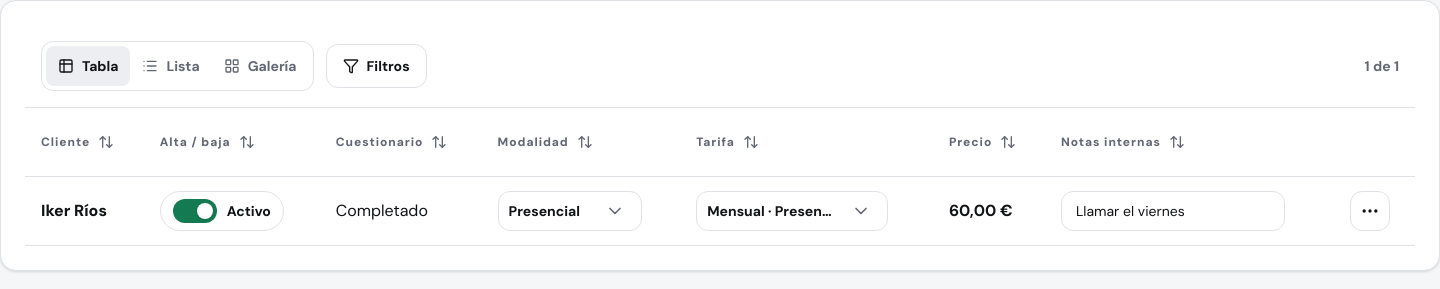
Test: ClientsTable › ofrece selectores internos por fila, notas automáticas y un menú de tres puntos
Expected: the dropdown named "Modalidad de Iker Ríos" is shown, x1=498 y1=191 x2=642 y2=231
Expected: the dropdown named "Tarifa de Iker Ríos" is shown, x1=696 y1=191 x2=888 y2=231
What coordinates should you click on to do the following:
click the button named "Más opciones para Iker Ríos"
I would click on:
 (1370, 211)
Its box is x1=1350 y1=191 x2=1390 y2=231.
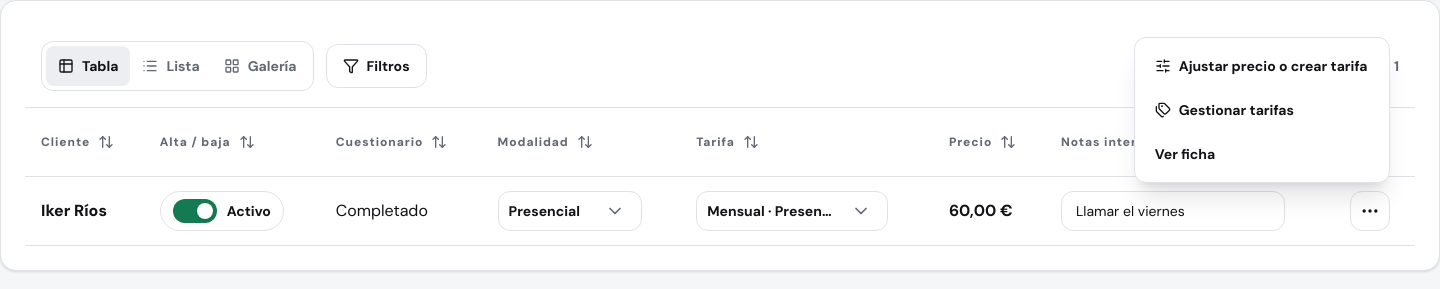
Expected: the menu item "Ajustar precio o crear tarifa" is shown, x1=1143 y1=46 x2=1381 y2=86
